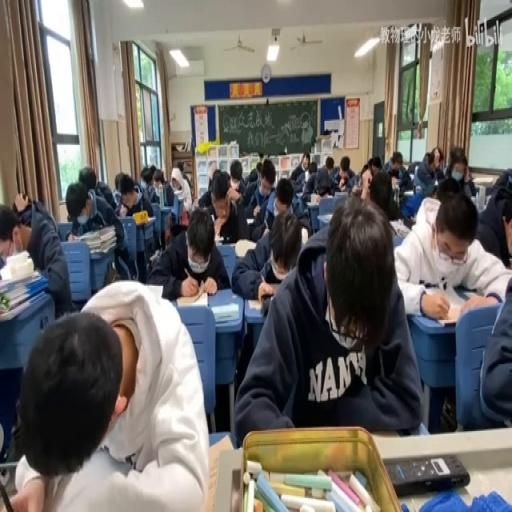calculator: (205, 431, 235, 508), (174, 287, 209, 306), (210, 300, 238, 322), (234, 236, 256, 256), (389, 218, 411, 238), (4, 248, 30, 264), (134, 213, 155, 226), (316, 212, 334, 227), (470, 174, 496, 184), (247, 297, 263, 310), (172, 186, 185, 199), (149, 248, 159, 263), (333, 191, 349, 199), (294, 189, 308, 198), (213, 234, 222, 244), (305, 198, 319, 204), (401, 189, 413, 196), (245, 216, 254, 223)
paper: (234, 193, 418, 441), (10, 279, 208, 506), (392, 183, 510, 316), (0, 195, 72, 323), (148, 205, 227, 300), (67, 176, 130, 289), (476, 272, 510, 430), (256, 174, 306, 243), (197, 160, 245, 228), (399, 147, 437, 216), (364, 166, 403, 222), (440, 145, 476, 196), (302, 160, 337, 200), (146, 165, 174, 210), (332, 155, 356, 193), (11, 189, 34, 225), (93, 182, 116, 212), (288, 152, 308, 186), (77, 164, 96, 192), (260, 158, 275, 188), (428, 145, 443, 169), (140, 168, 153, 192), (229, 160, 242, 184), (114, 171, 124, 192), (246, 168, 258, 183), (182, 172, 191, 192), (111, 189, 120, 209), (360, 160, 371, 176), (370, 155, 380, 172), (324, 155, 334, 171), (392, 156, 402, 170), (210, 169, 220, 182), (308, 160, 317, 174), (316, 188, 330, 196), (352, 186, 362, 196), (176, 161, 183, 175), (256, 160, 262, 174), (160, 170, 166, 184)
person: (384, 452, 468, 494), (0, 462, 21, 502), (259, 293, 272, 314)
